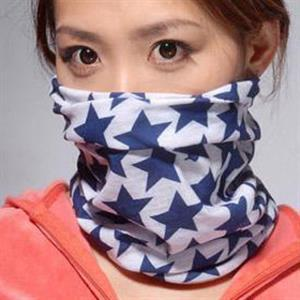OK: (53, 23, 239, 187)
